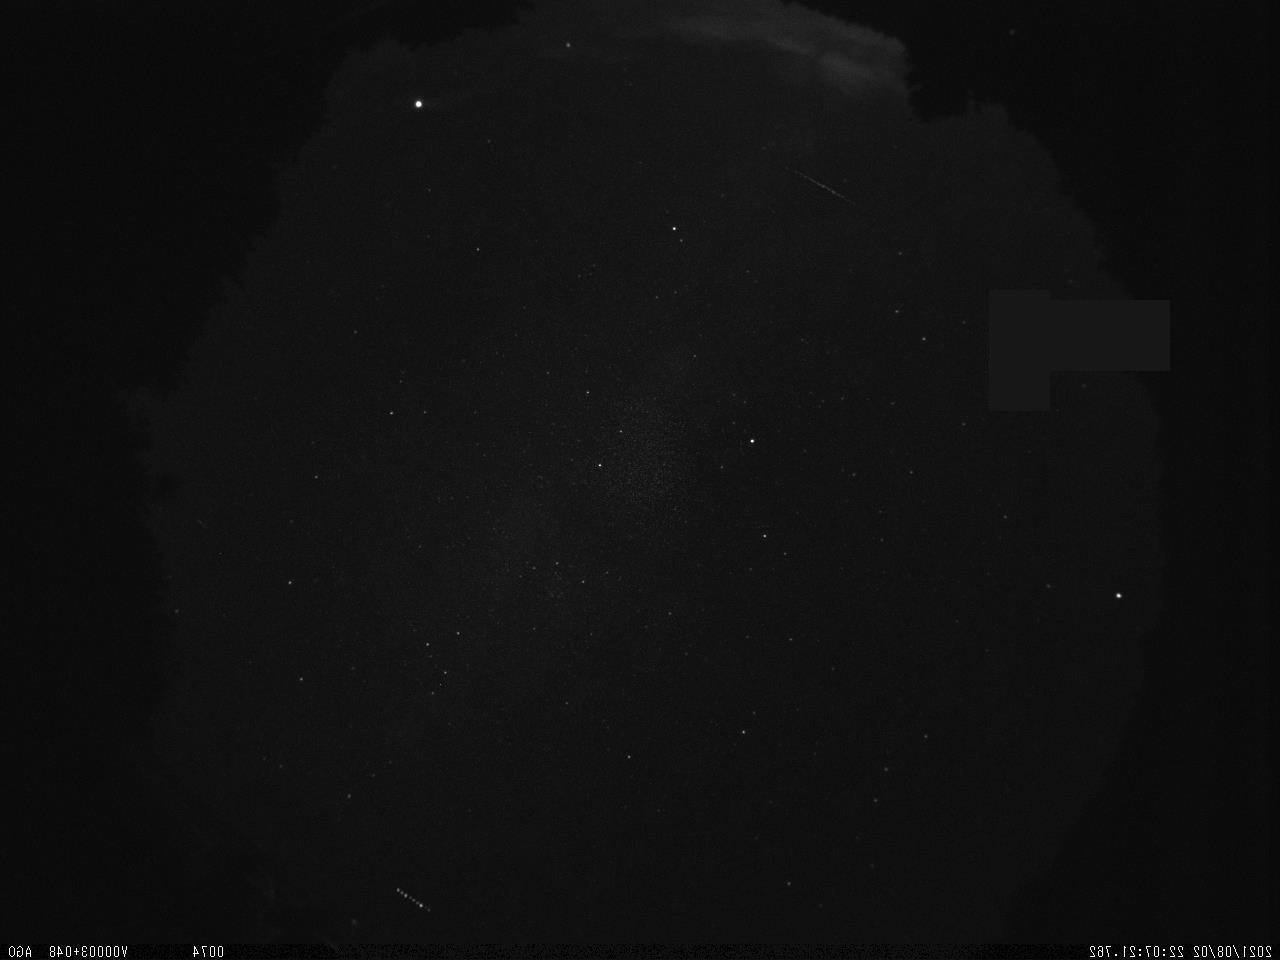meteor: (773, 164, 874, 214)
